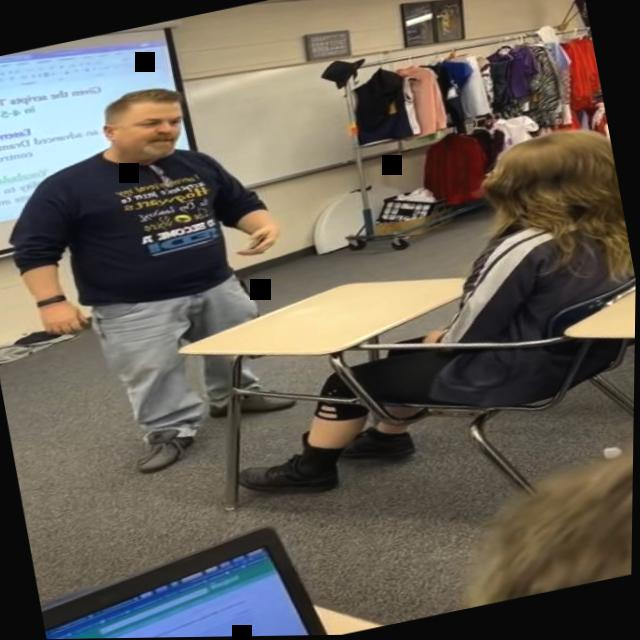NO-Mask: (99, 88, 193, 172)
